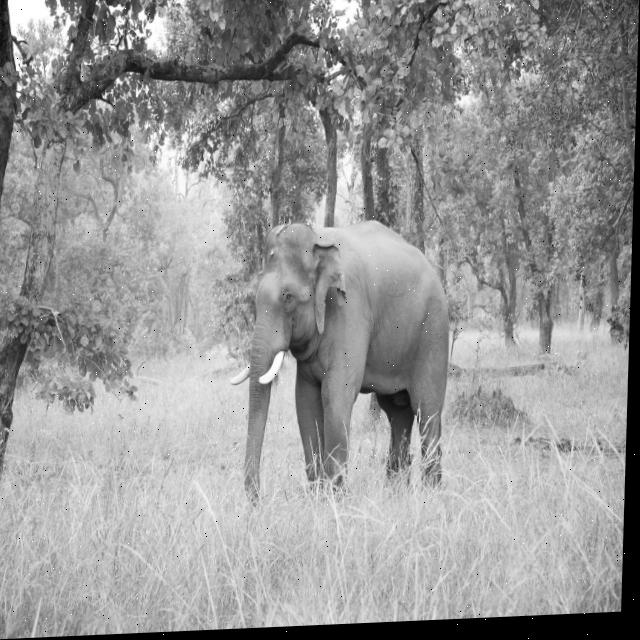Elephant: (226, 214, 454, 508)
